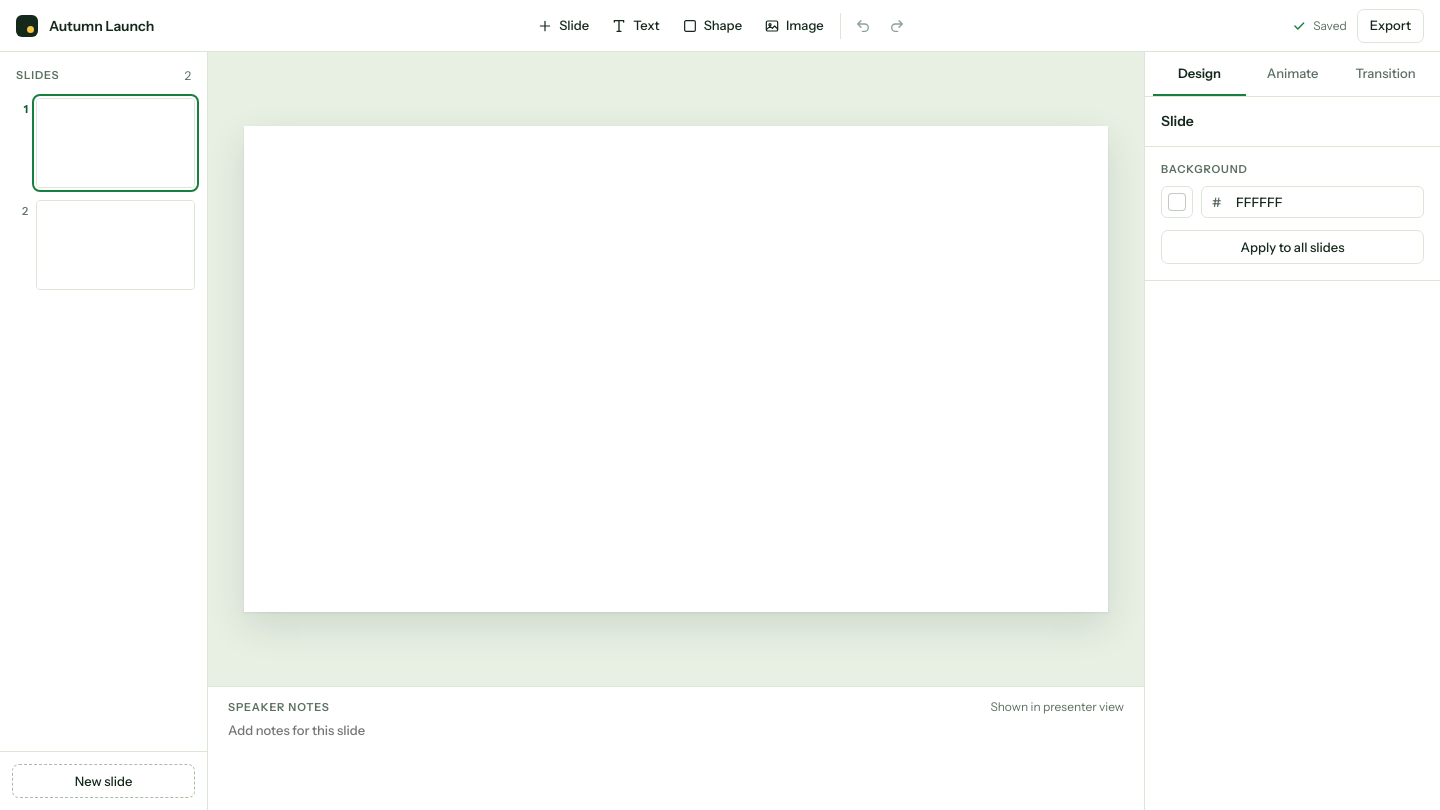
Given the first slide, When the Transition tab is opened, Then it says there is no incoming transition and offers no choice
The image size is (1440, 810).
What coordinates should you click on to do the following:
click the option named "Slide 1"
I would click on:
 (104, 143)
Its box is [12,98,195,188].
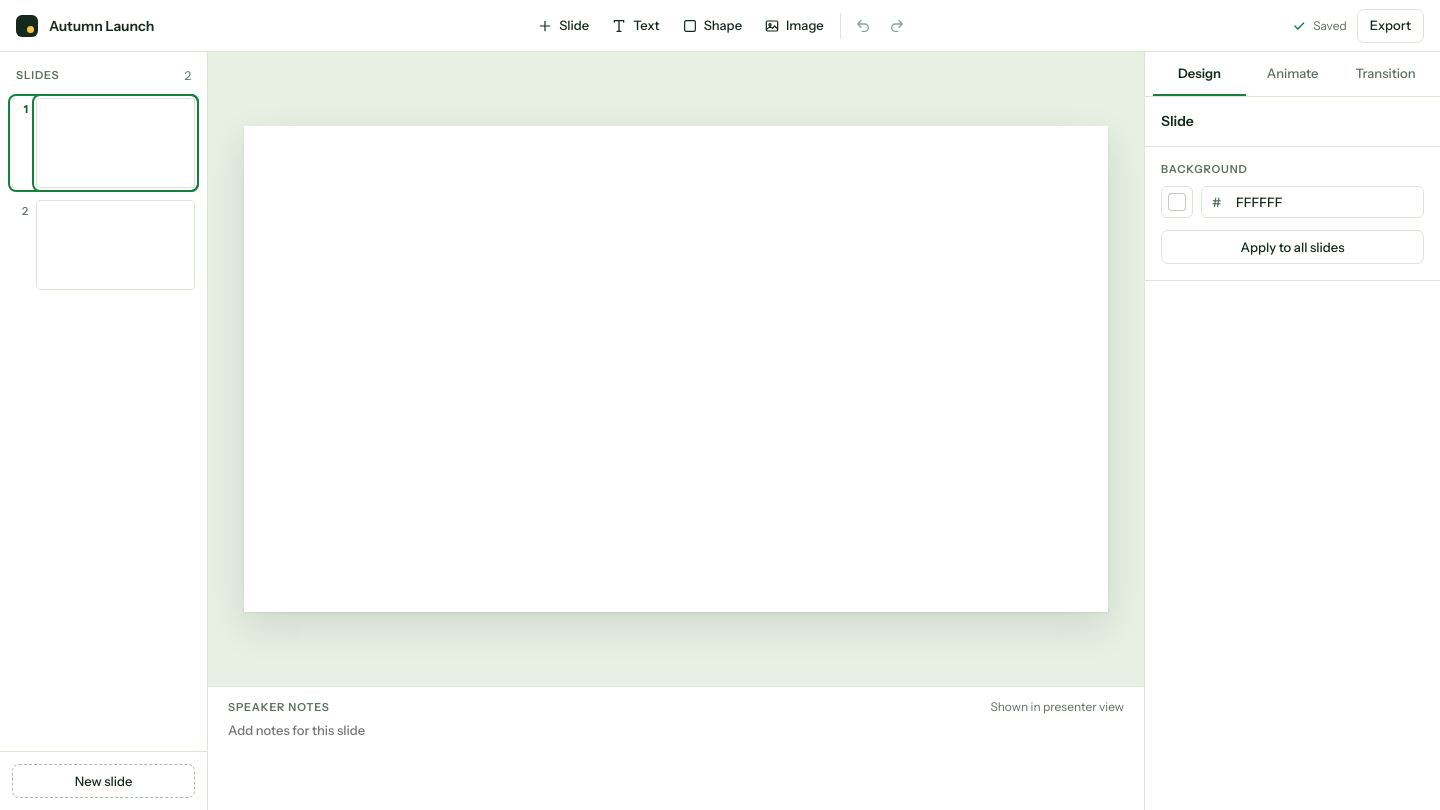
What coordinates should you click on to do the following:
click the tab "Transition"
I would click on:
 (1386, 74)
Its box is [1339,52,1432,96].
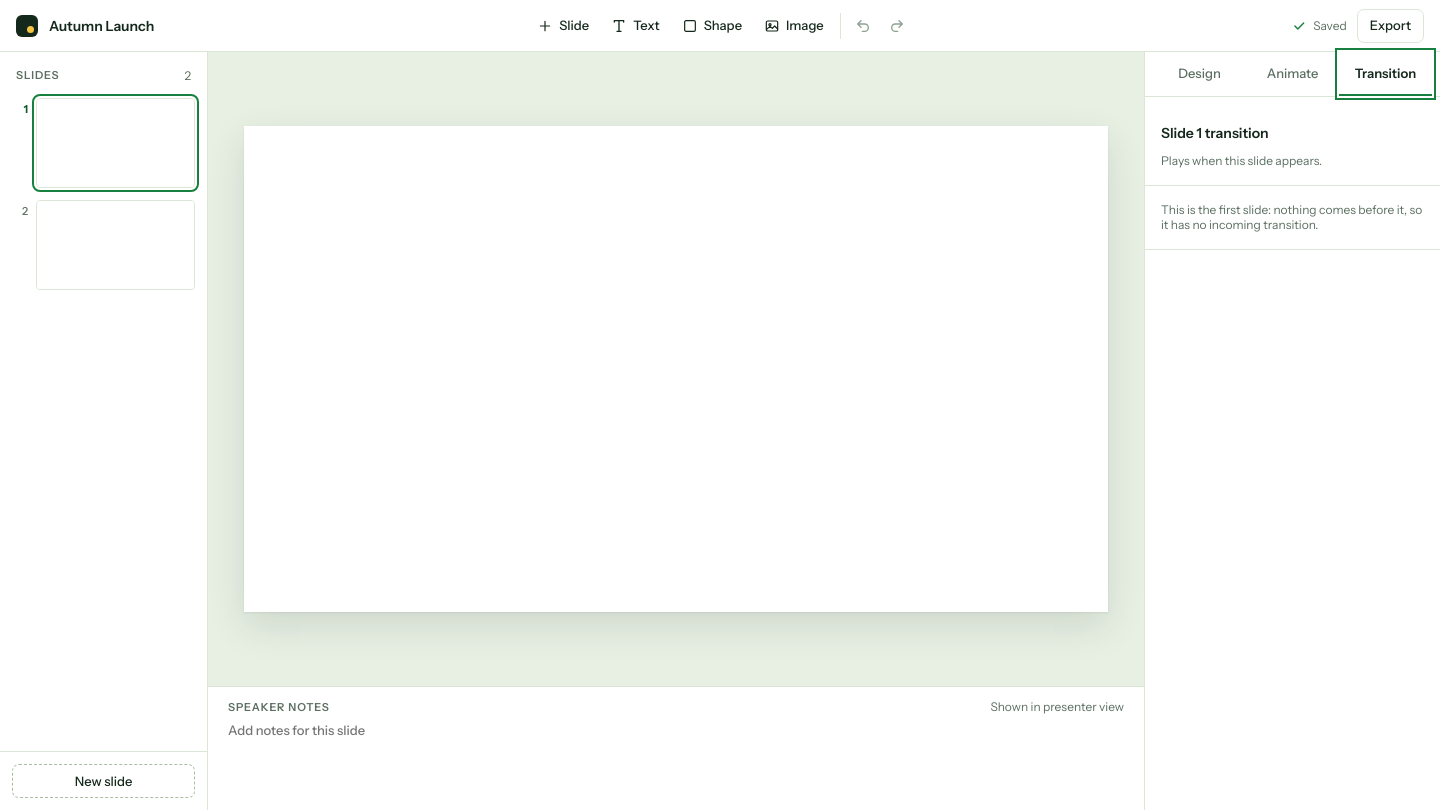
Now the heading "Slide 1 transition" is shown, box [1161,124,1269,142]
Now the text "no incoming transition" is shown, box [1161,202,1422,232]
